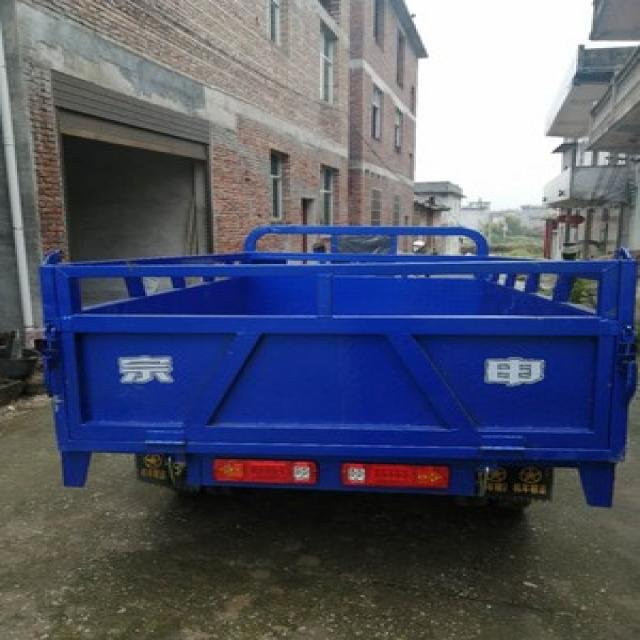tricycle: (30, 221, 629, 514)
